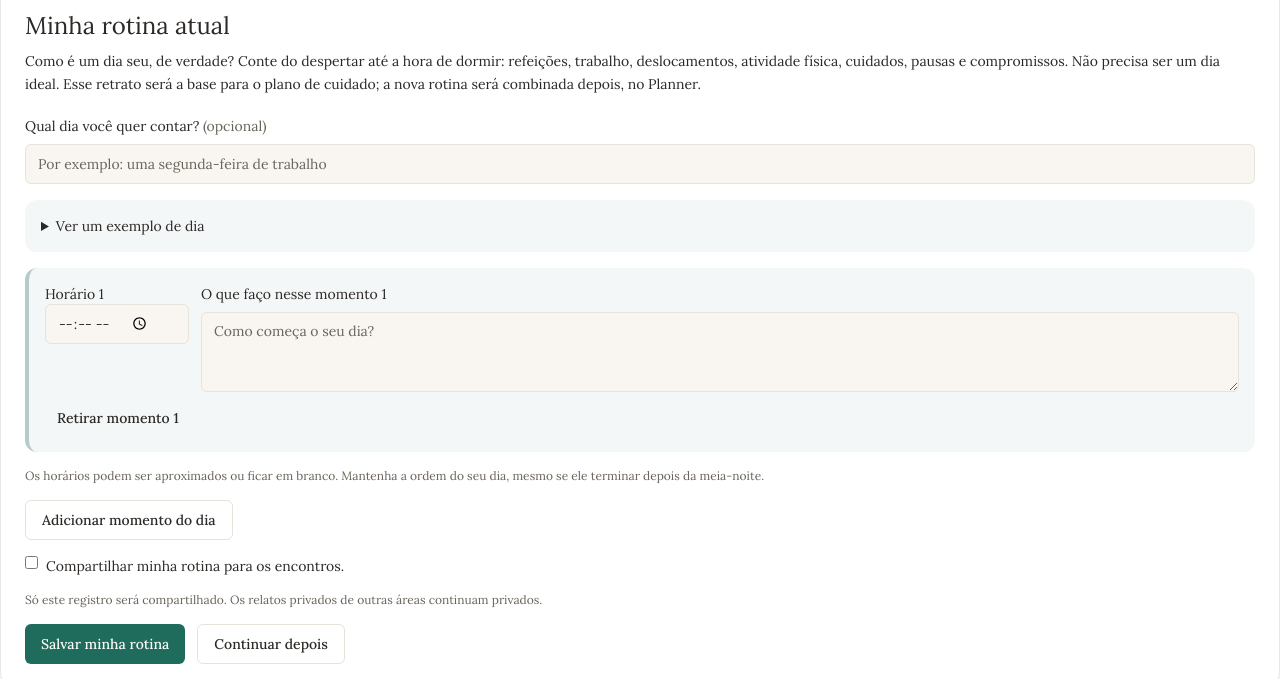
Test: falha ao salvar preserva o que foi escrito e permite tentar novamente
In the time field labelled "Horário 1": (117, 324) x1=45 y1=304 x2=189 y2=344, type "07:00"
In the text box labelled "O que faço nesse momento 1": (720, 352) x1=201 y1=312 x2=1239 y2=392, type "Acordo e preparo o café"
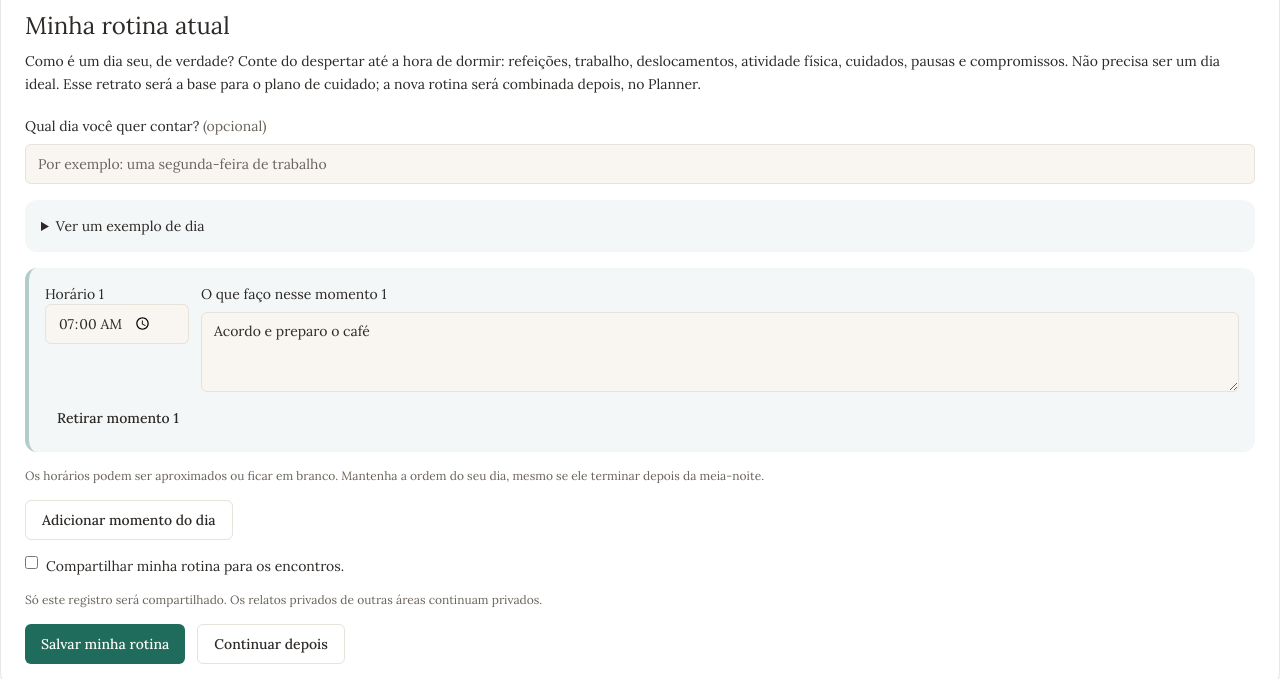
Click the button "Adicionar momento do dia": (129, 520) x1=25 y1=500 x2=233 y2=540
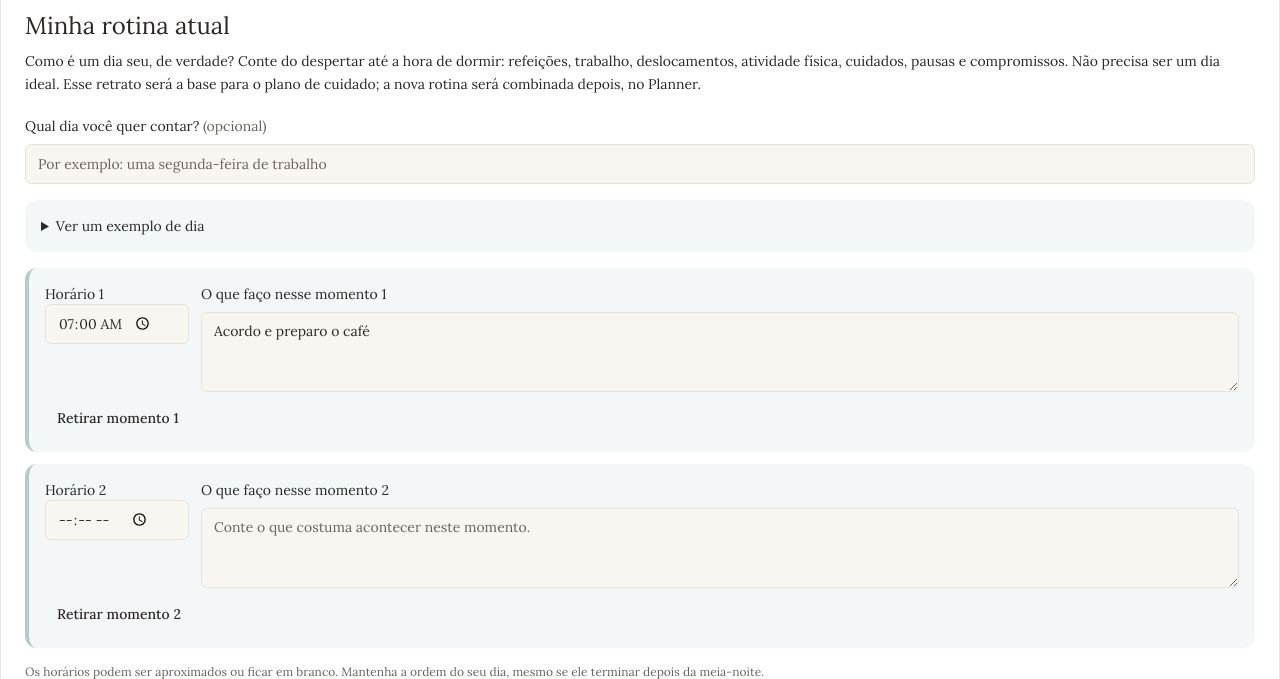
In the time field labelled "Horário 2": (117, 520) x1=45 y1=500 x2=189 y2=540, type "23:00"
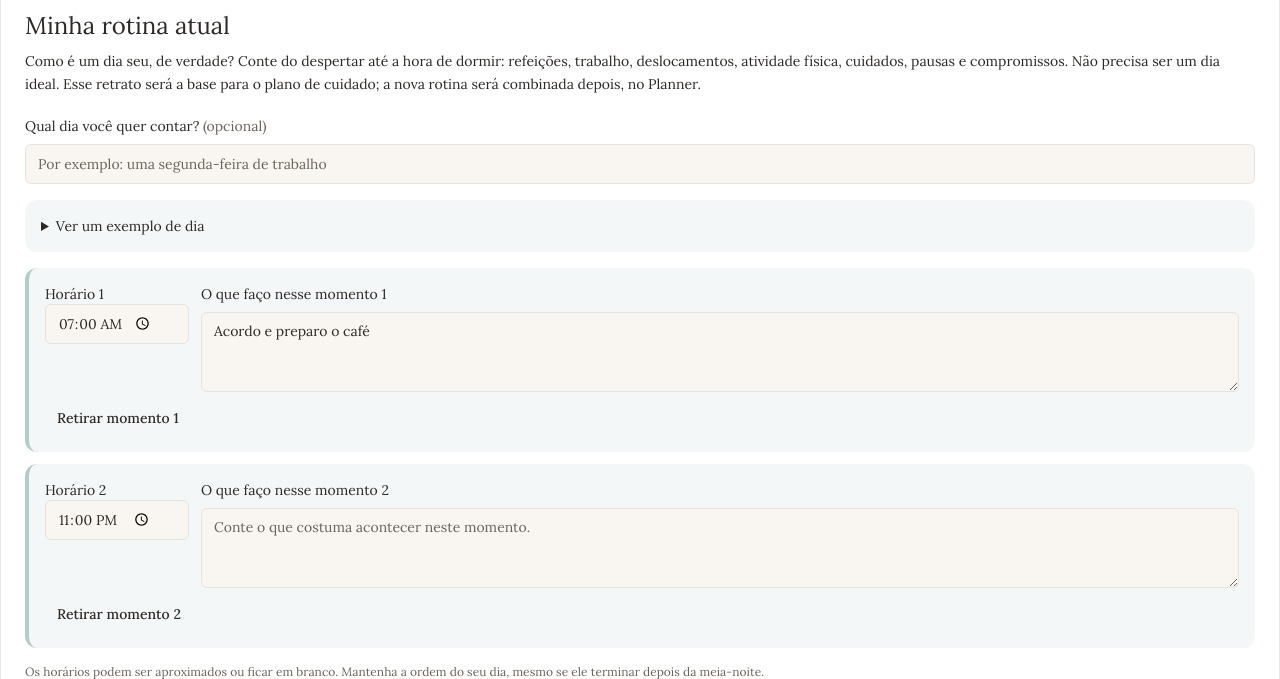
In the text box labelled "O que faço nesse momento 2": (720, 548) x1=201 y1=508 x2=1239 y2=588, type "Vou dormir"
(page scrolled)
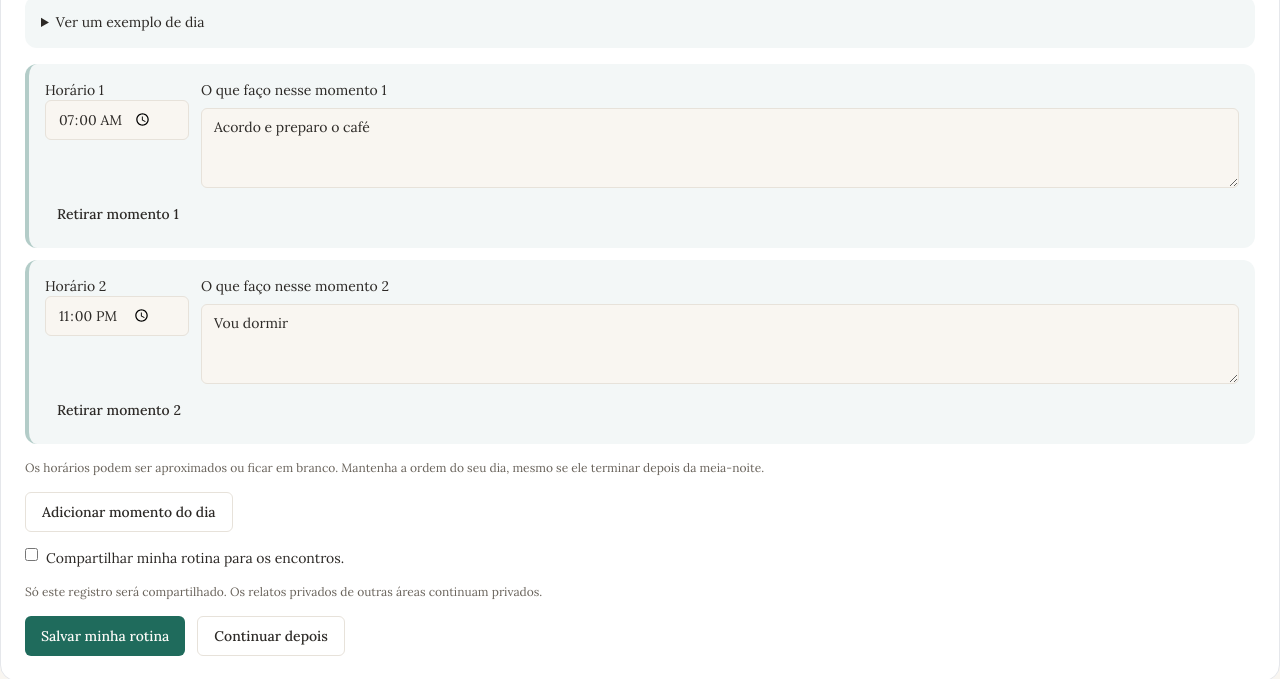
Click the button "Salvar minha rotina": (105, 636) x1=25 y1=616 x2=185 y2=656
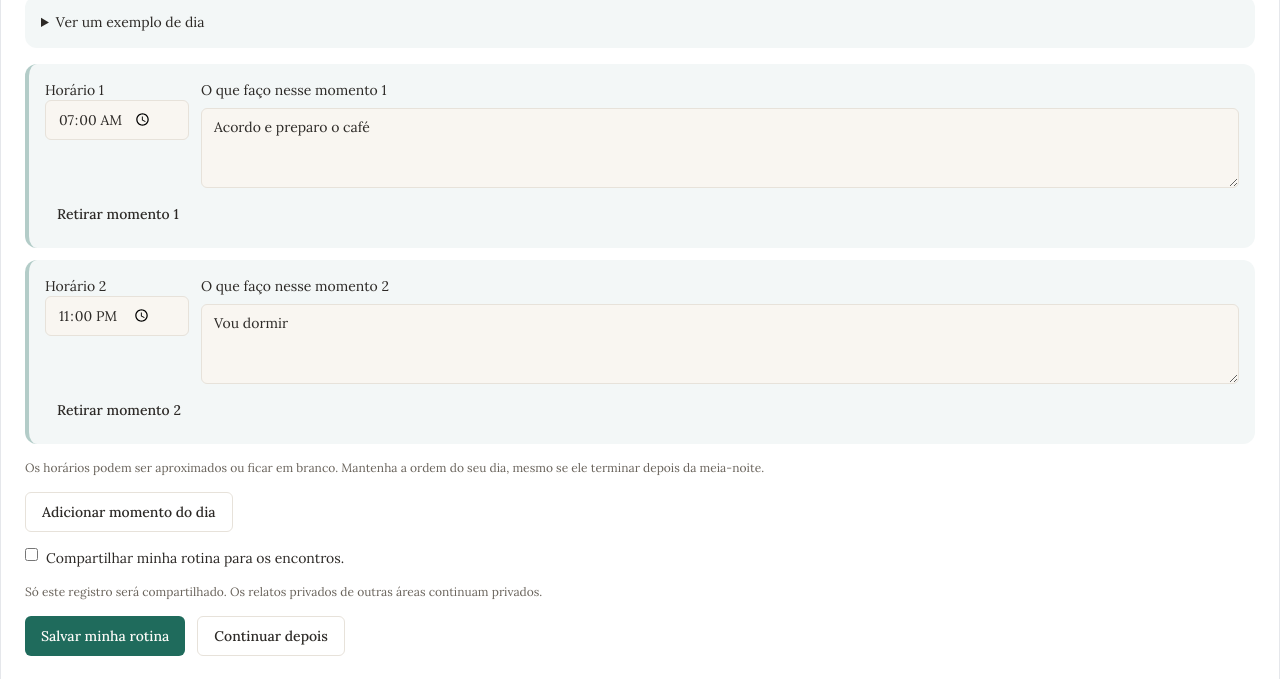
Click the button "Salvar minha rotina": (105, 636) x1=25 y1=616 x2=185 y2=656
(page scrolled)
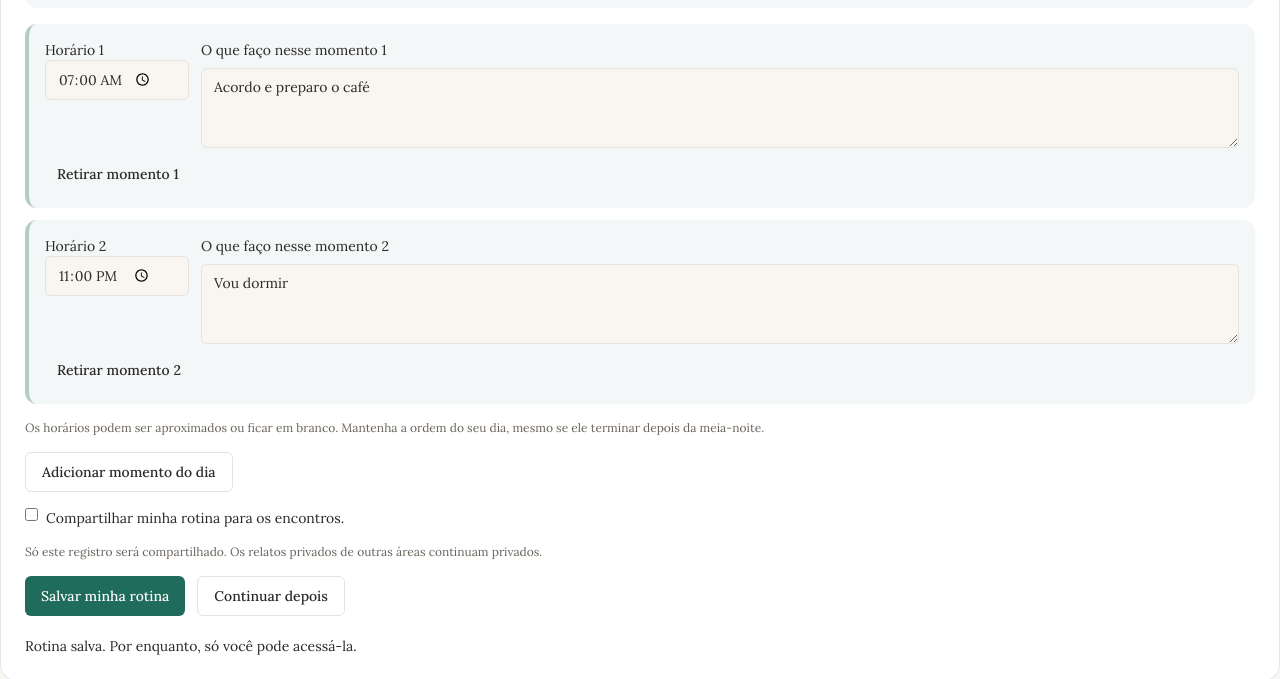
Check: the text "Rotina salva. Por enquanto, só você pode acessá-la." is shown, box x1=25 y1=636 x2=357 y2=654
